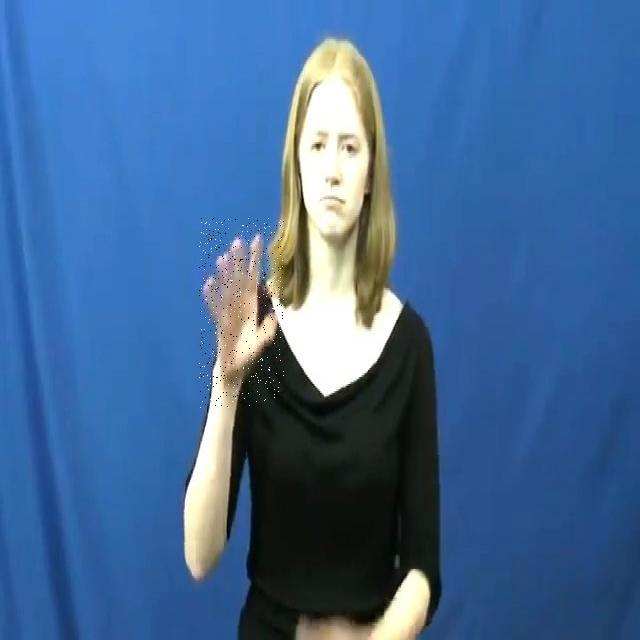additional: (199, 218, 284, 408)
